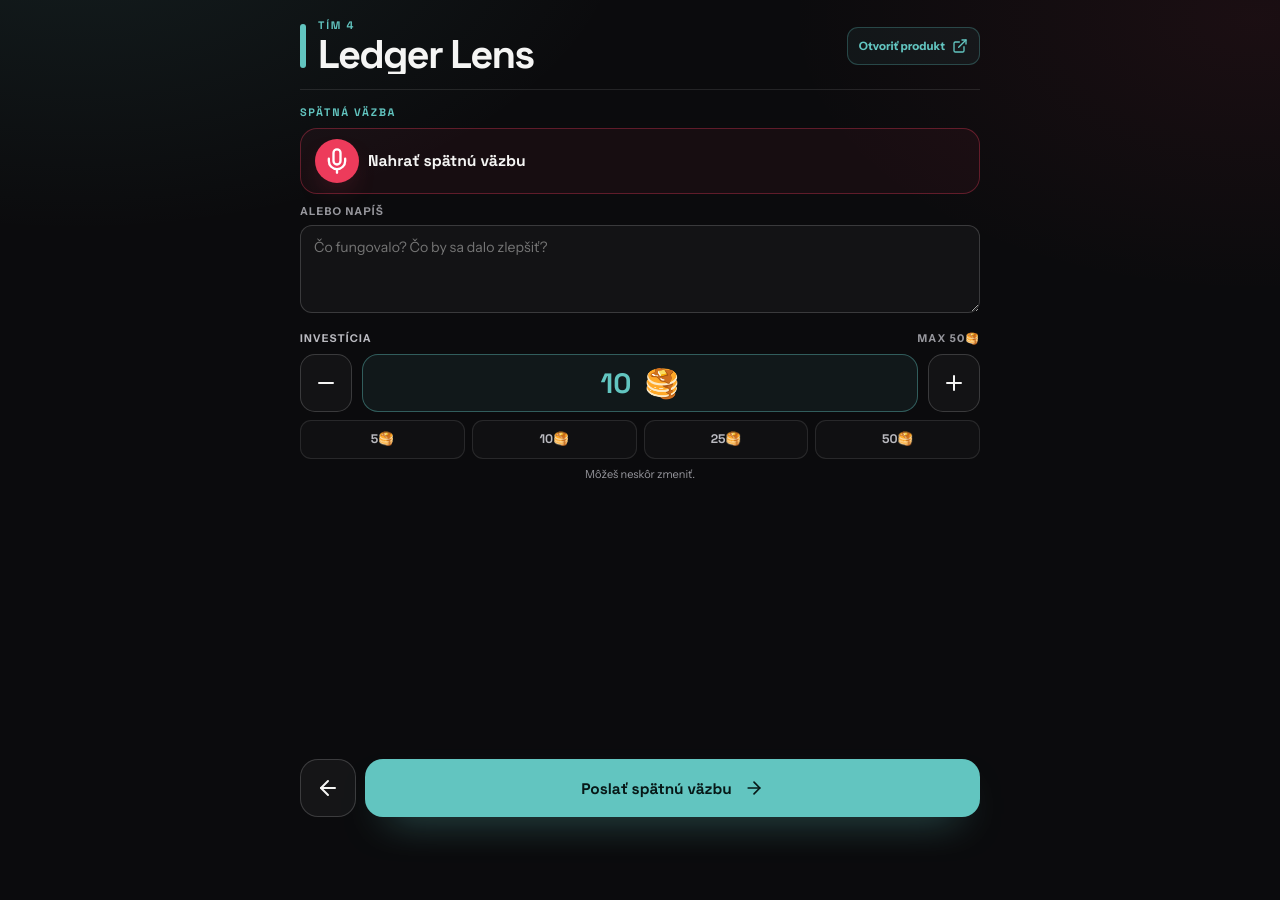
Test: SignalForm › requires feedback before save
Click the button "Poslať spätnú väzbu" at (672, 788), box [365,759,980,817]
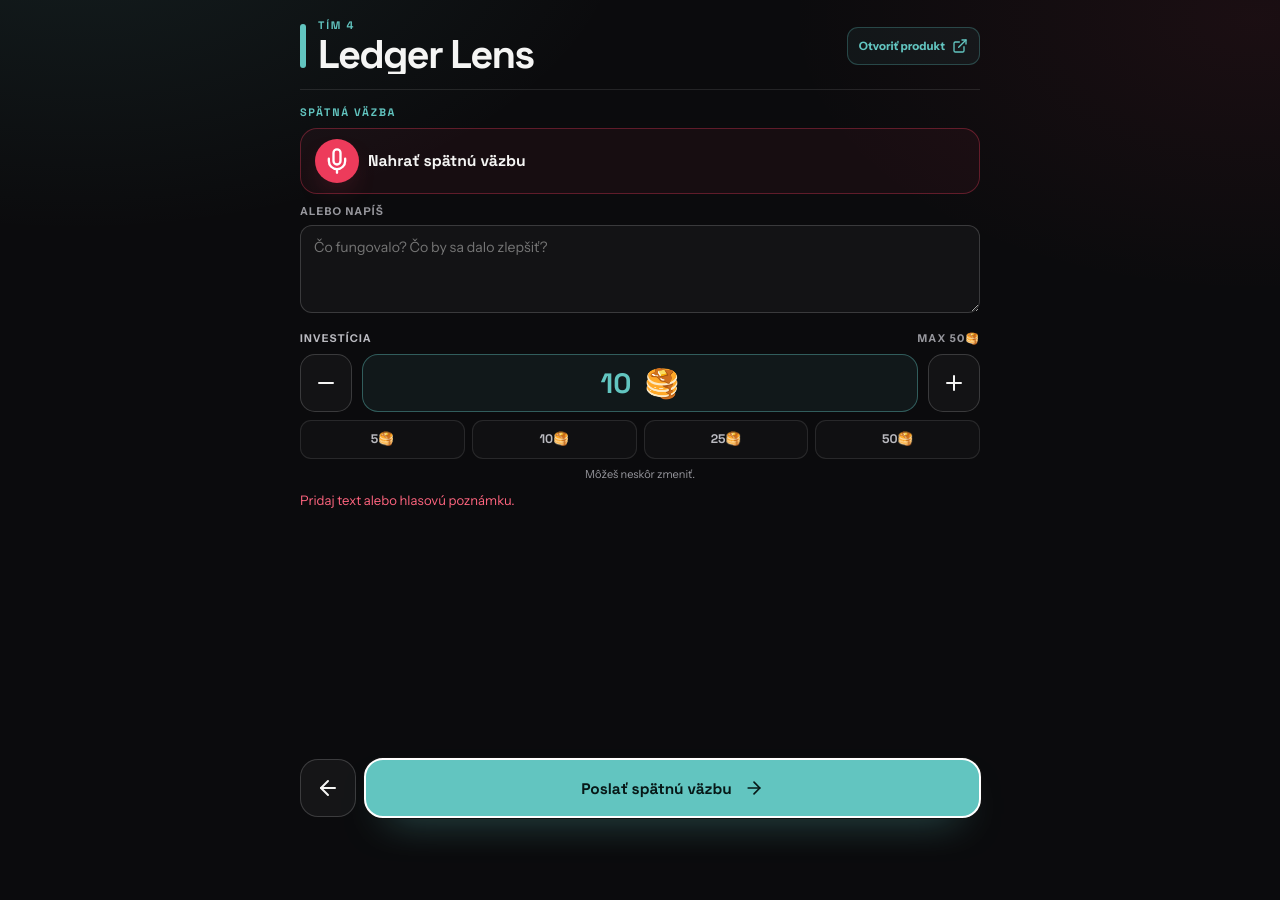
Now the message reads "Pridaj text alebo hlasovú poznámku.", box [300,492,514,508]
